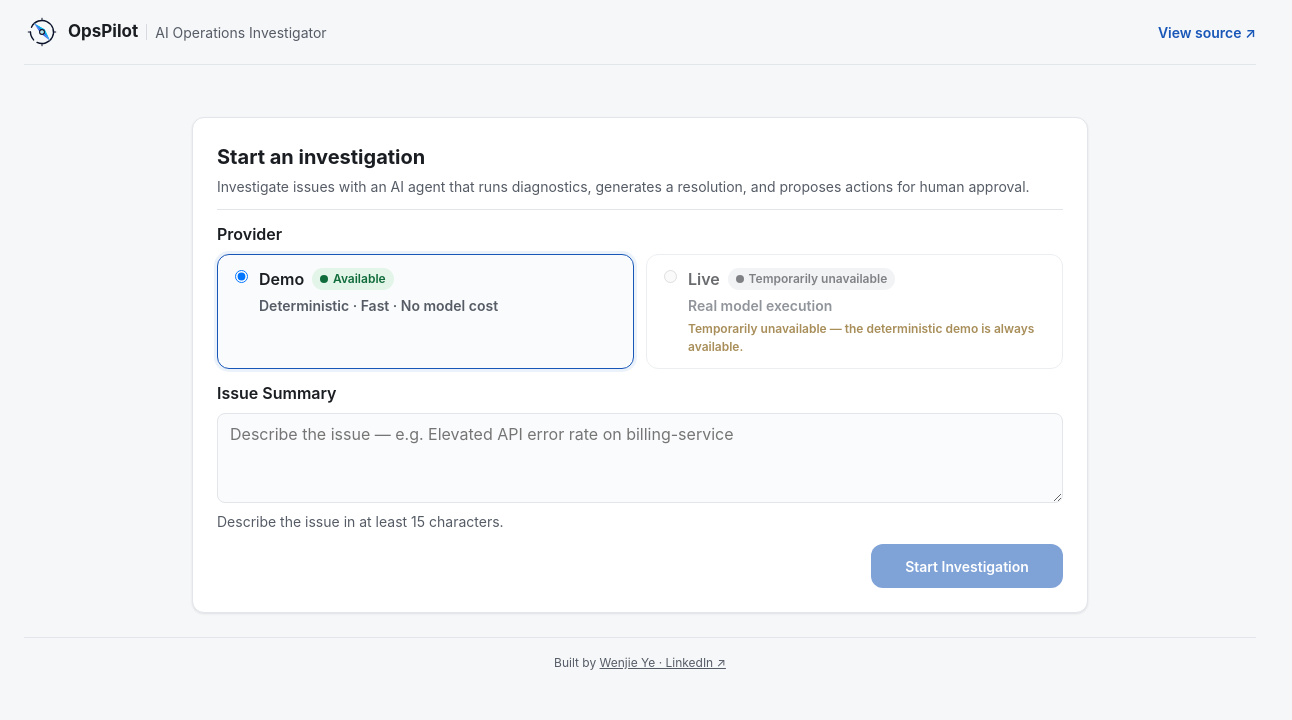
Issue #41 polish — compact Run Details (§12 / §18.9-18.11) › primary fields are Provider / Model / Duration / Attempt, with `Demo` not `FAKE` (§18.9-18.10)
Type "Elevated error rate" into the text box labelled "Issue Summary" at (640, 458), box [217, 413, 1063, 503]
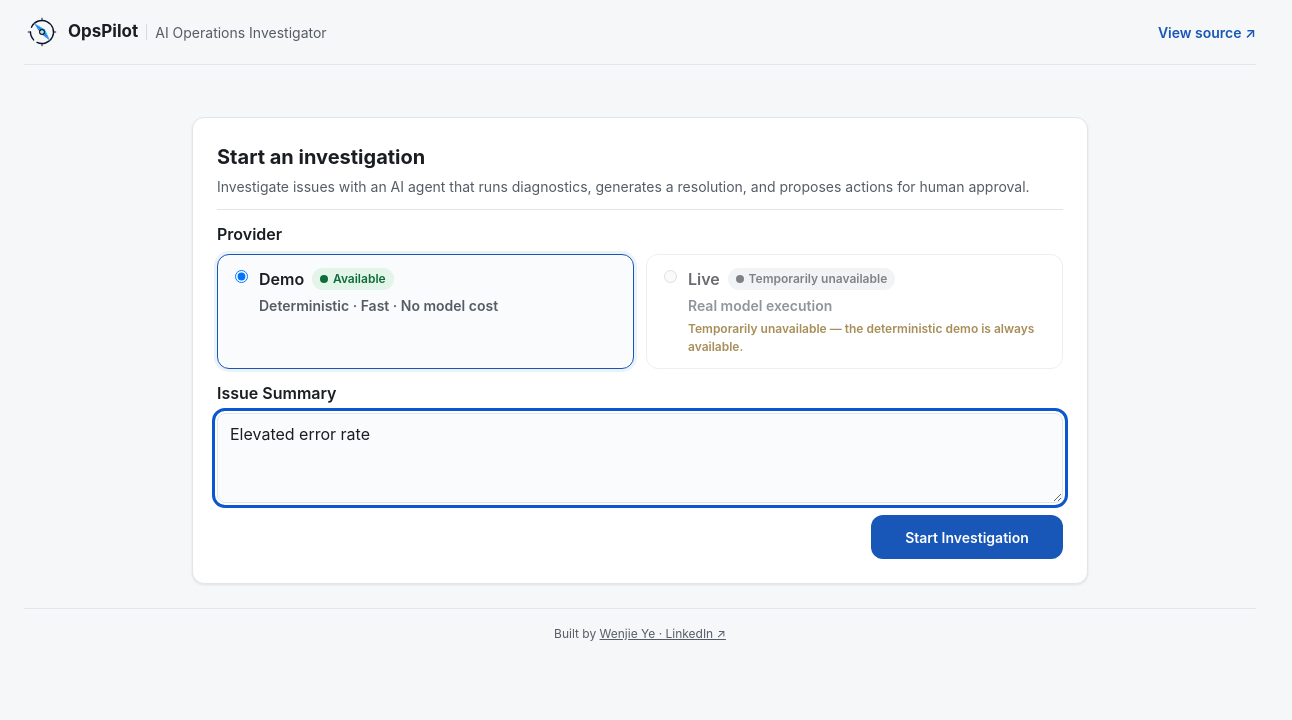
Click the button "Start Investigation" at (967, 537), box [871, 515, 1063, 559]
(page scrolled)
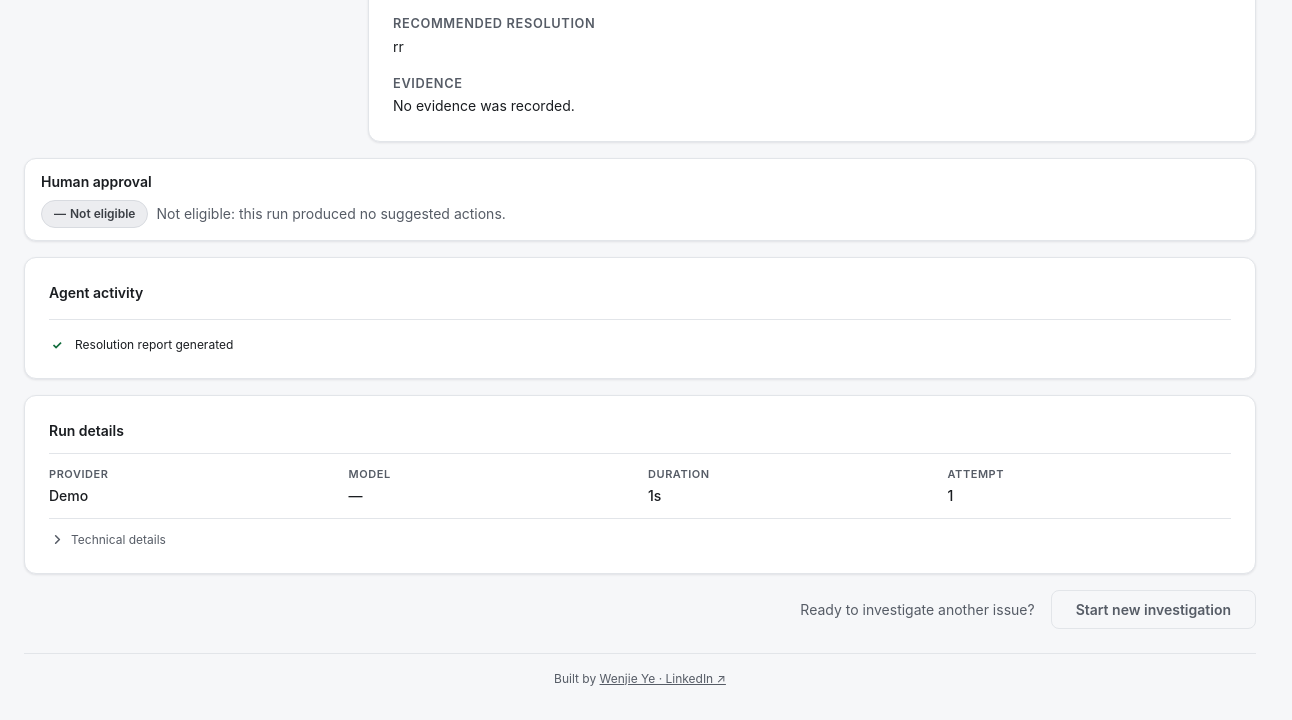
Expected: the heading "Run details" is shown, [49, 422, 124, 439]
Expected: the text "Duration" is shown, [648, 467, 710, 481]
Expected: the text "Attempt" is shown, [948, 467, 1004, 481]
